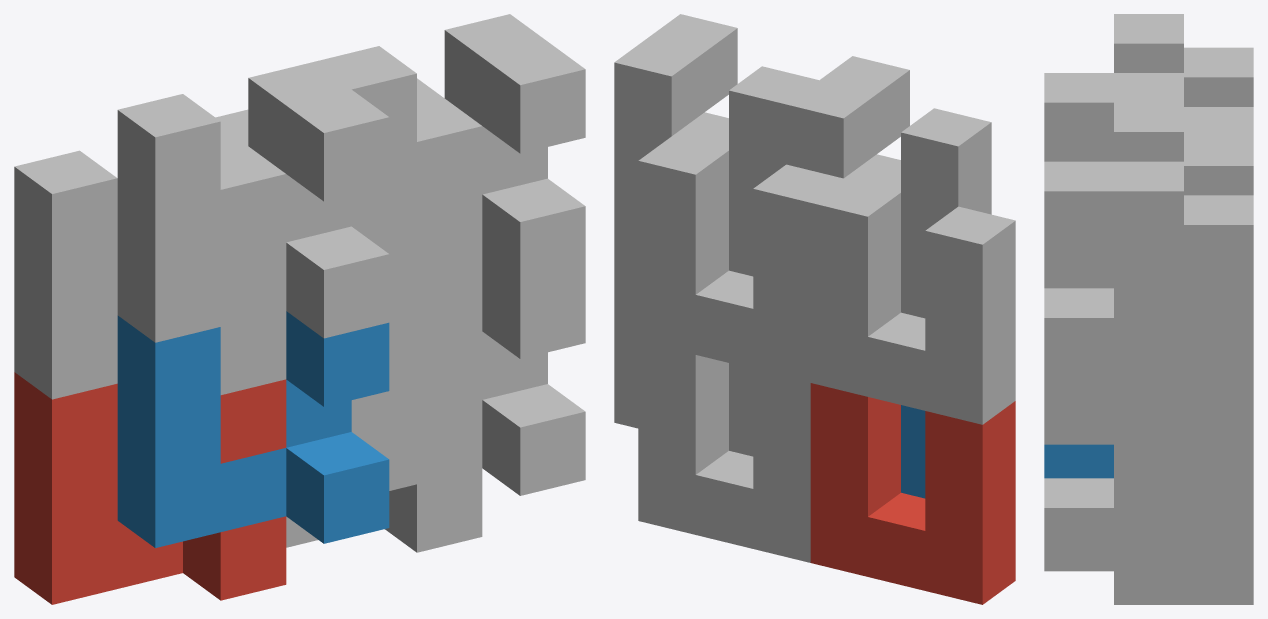
File: tiling.obj
3 renders of one model, left to right at view 1: azimuth 30°, elevation 25°; view 2: azimuth 150°, elevation 25°; view 3: azimuth 270°, elevation 25°, orthographic. The views are drawn at different scales.
Parts seen in each view (by area): view 1: copy_1_domain_4, copy_1_domain_2, copy_1_domain_8, copy_1_domain_1, copy_1_domain_3, copy_1_domain_6, copy_1_domain_7, copy_1_domain_5; view 2: copy_1_domain_3, copy_1_domain_1, copy_1_domain_7, copy_1_domain_5, copy_1_domain_8, copy_1_domain_4, copy_1_domain_6, copy_1_domain_2; view 3: copy_1_domain_8, copy_1_domain_6, copy_1_domain_7, copy_1_domain_5, copy_1_domain_4, copy_1_domain_3, copy_1_domain_2.
Boxes of the visible parts, x1,y1,x2,y2 form: copy_1_domain_4: (117, 62, 389, 342); copy_1_domain_2: (117, 311, 389, 547); copy_1_domain_8: (314, 14, 585, 290); copy_1_domain_1: (14, 372, 286, 604); copy_1_domain_3: (14, 126, 286, 399); copy_1_domain_6: (351, 263, 585, 495); copy_1_domain_7: (215, 78, 482, 347); copy_1_domain_5: (286, 331, 482, 552); copy_1_domain_3: (810, 154, 1015, 424); copy_1_domain_1: (810, 383, 1015, 604); copy_1_domain_7: (638, 112, 843, 382); copy_1_domain_5: (638, 341, 810, 562); copy_1_domain_8: (614, 14, 818, 276); copy_1_domain_4: (786, 56, 991, 318); copy_1_domain_6: (614, 242, 753, 456); copy_1_domain_2: (901, 405, 925, 498); copy_1_domain_8: (1044, 102, 1183, 381); copy_1_domain_6: (1044, 381, 1183, 571); copy_1_domain_7: (1184, 136, 1253, 414); copy_1_domain_5: (1114, 415, 1253, 604); copy_1_domain_4: (1044, 14, 1183, 288); copy_1_domain_3: (1184, 47, 1253, 136); copy_1_domain_2: (1044, 444, 1113, 478).
Bounding box in the file's own units: 7 × 7 × 3.
